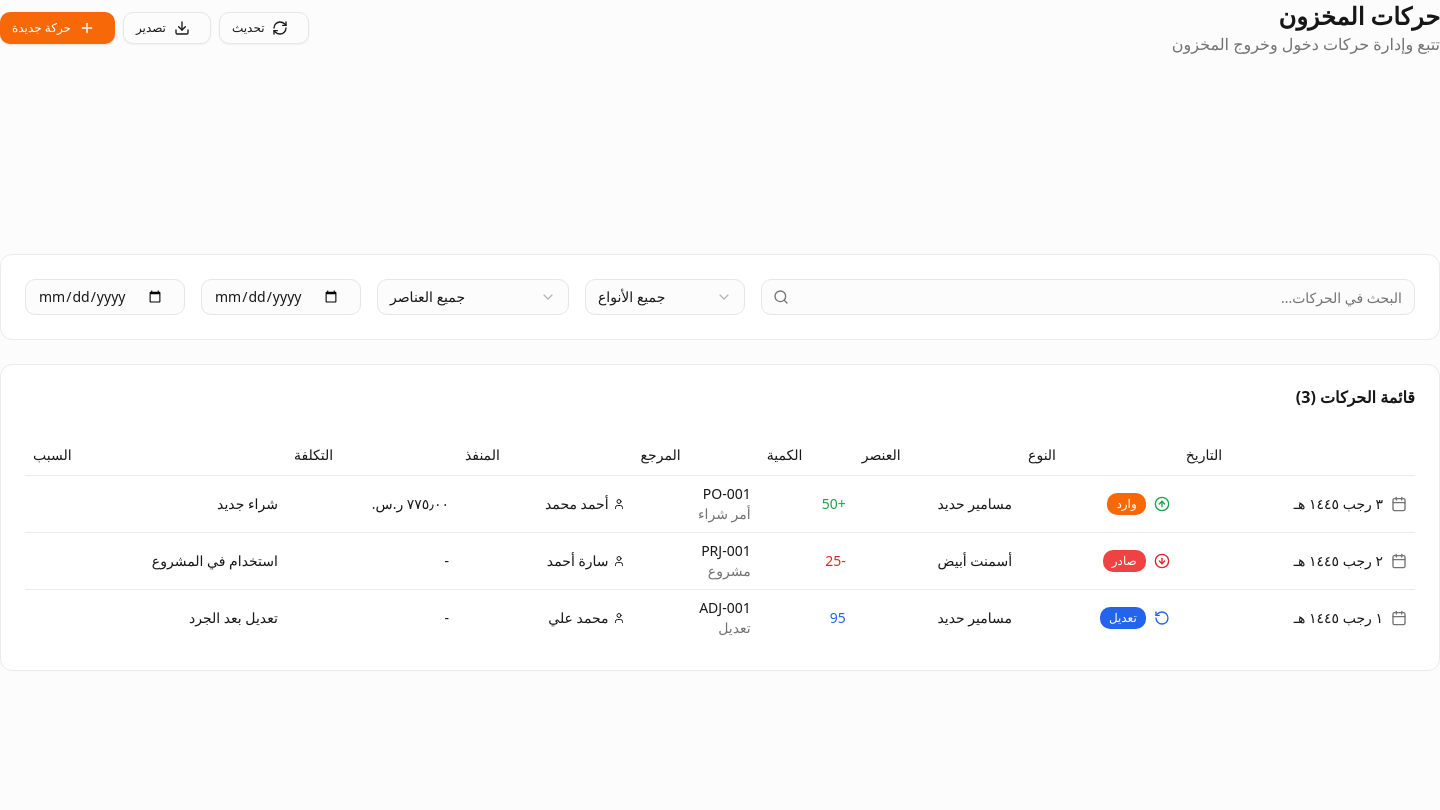
Scenario: StockMovement Component › Create Movement Dialog › should close dialog on cancel
The width and height of the screenshot is (1440, 810).
Click the button "حركة جديدة".
click(58, 28)  # box [0, 12, 115, 44]
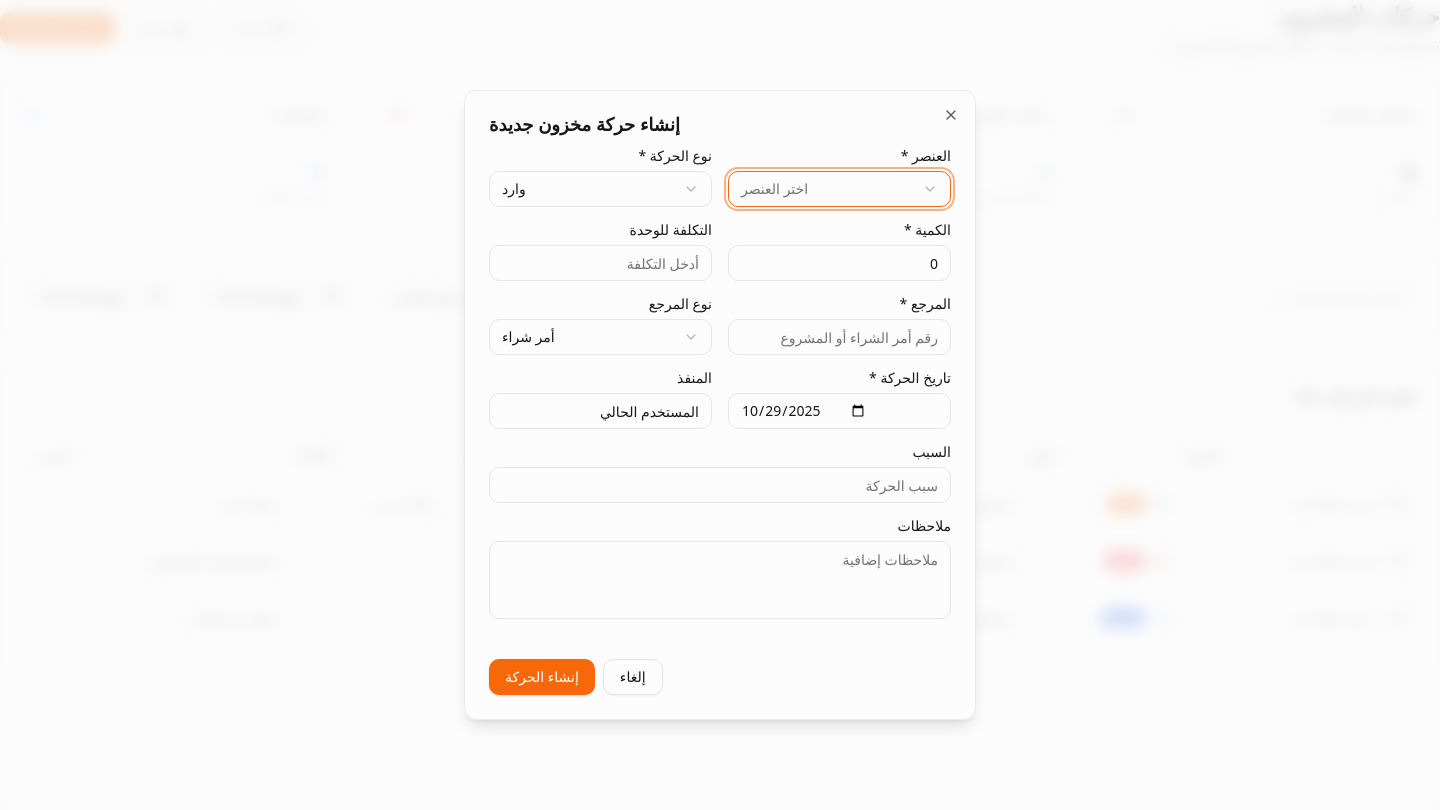
Click the button "إلغاء".
click(633, 677)  # box [603, 659, 663, 695]
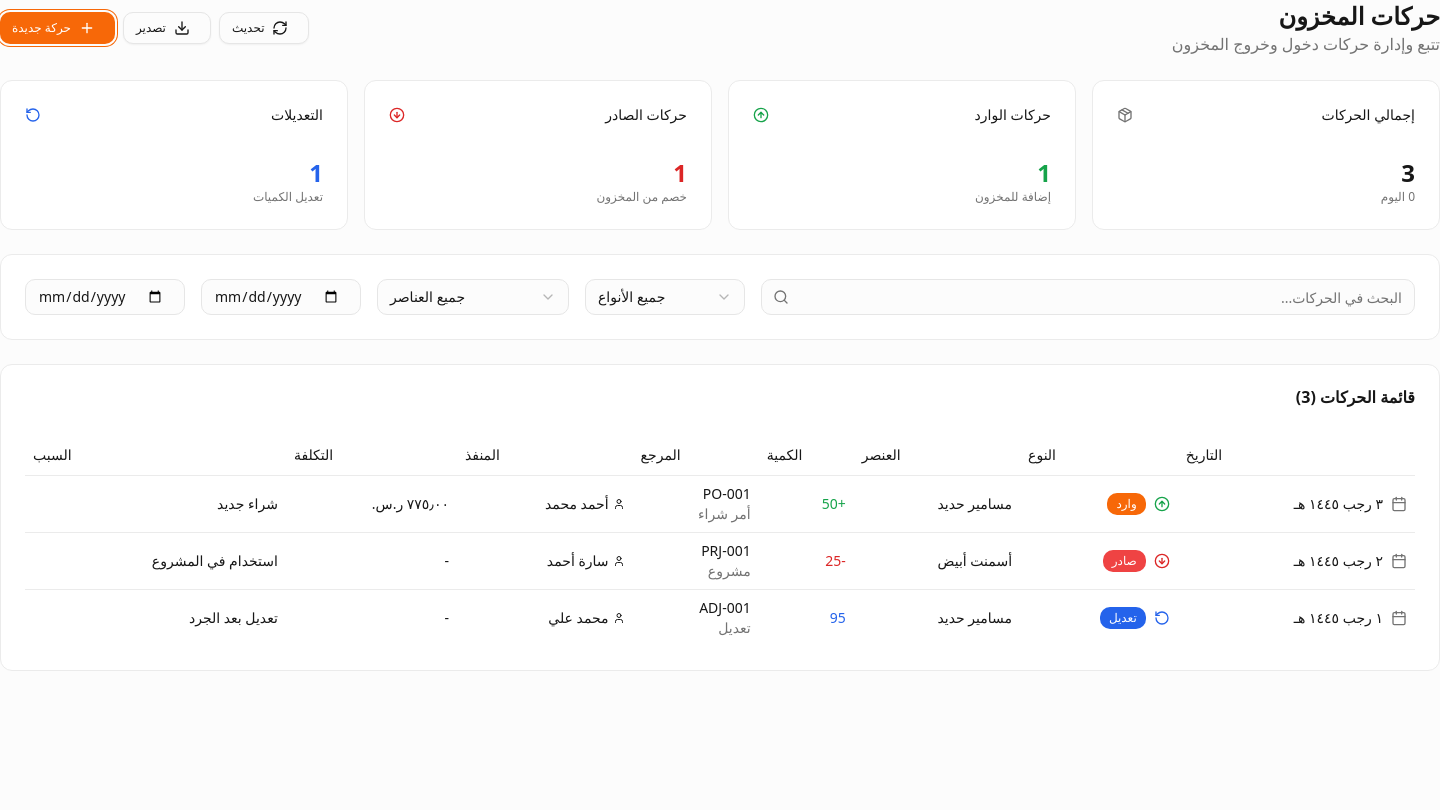
Expected: the heading "إنشاء حركة مخزون جديدة" is gone
